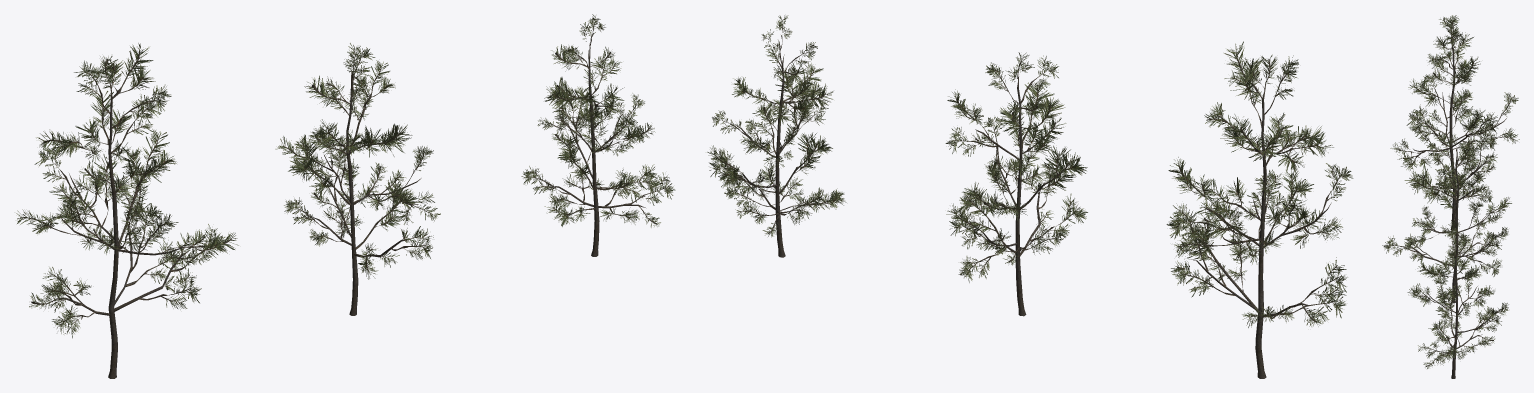
File: pine-sapling-small.glb
3 renders of one model, left to right at view 1: azimuth 30°, elevation 25°; view 2: azimuth 150°, elevation 25°; view 3: azimuth 270°, elevation 25°, orthographic. The views are drawn at different scales.
Visible parts, largest first — view 1: pine_sapling_small_b; view 2: pine_sapling_small_b; view 3: pine_sapling_small_b.
Boxes of the visible parts, x1,y1,x2,y2 form: pine_sapling_small_b: (16, 14, 675, 378); pine_sapling_small_b: (707, 15, 1353, 378); pine_sapling_small_b: (1382, 15, 1519, 378).
Size of the model in its own units: 2.64 by 1.3 by 0.7703.
2 materials, 2 textured.
